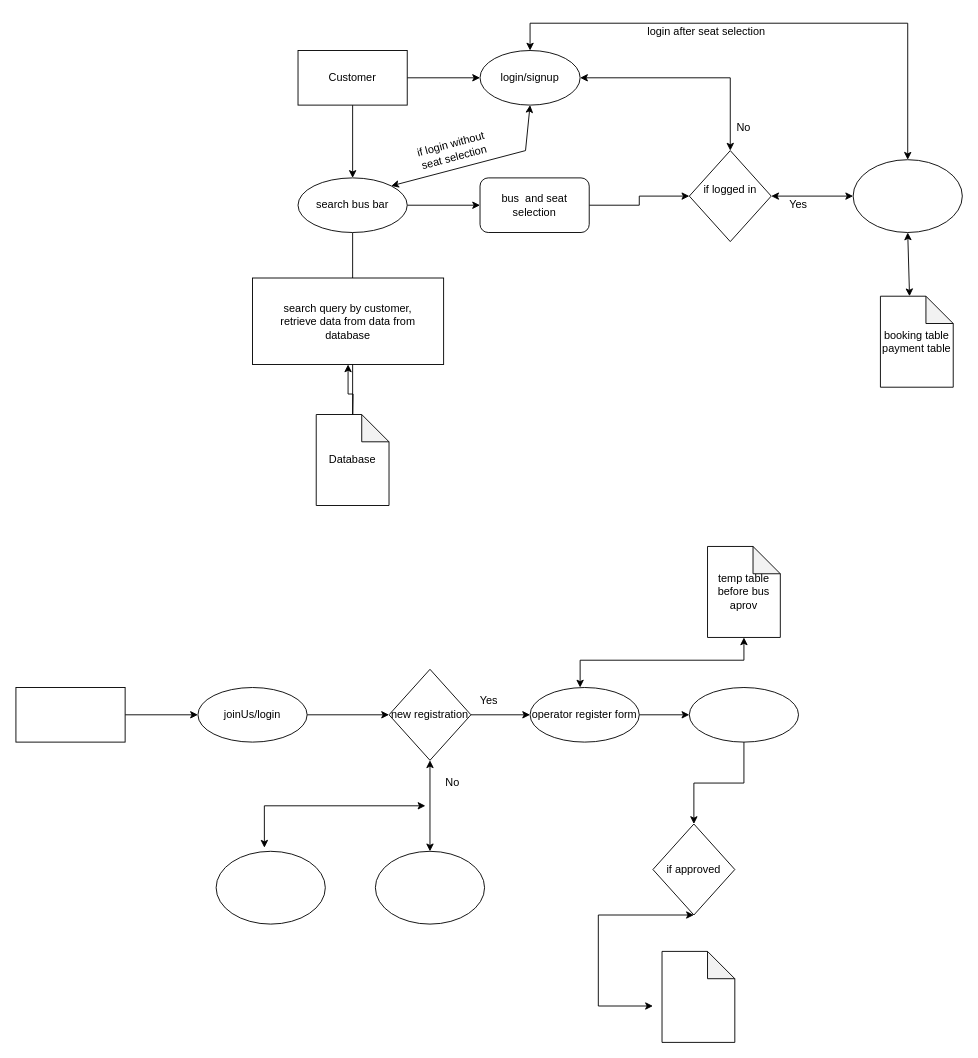
Image size: 978x1058. Some labels were removed from this diagram. Each missing label, with the box of its shape:
add/delete bus: (215, 850, 325, 924)
Bus operator: (15, 687, 125, 742)
main database: (661, 950, 735, 1042)
operator approval process: (688, 687, 799, 742)
Payment: (852, 159, 962, 233)
shedule bus: (374, 850, 485, 924)
